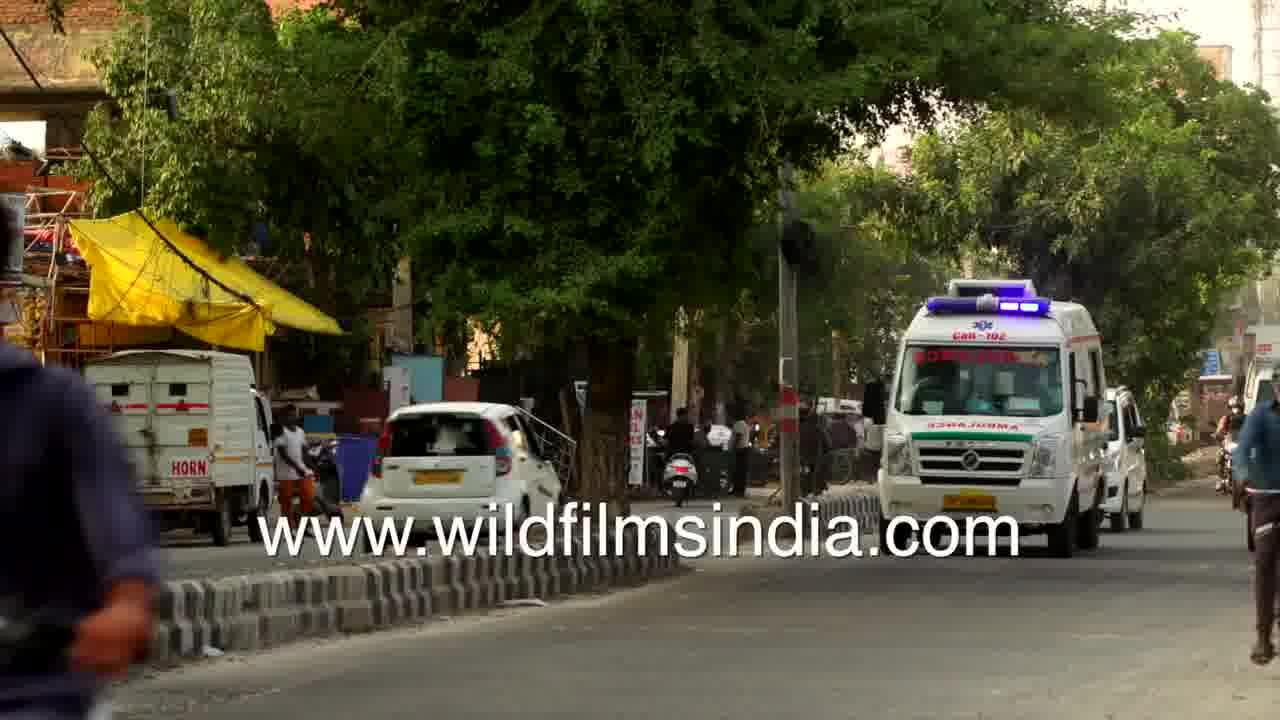AMBULANCE: (849, 267, 1106, 555)
